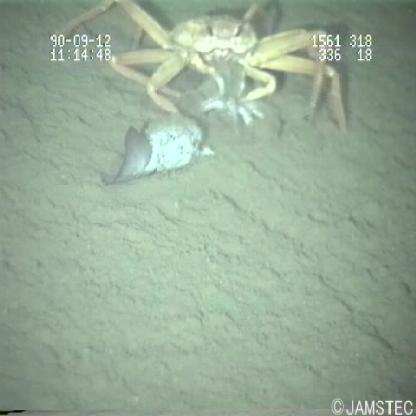Bio: (52, 1, 349, 192)
